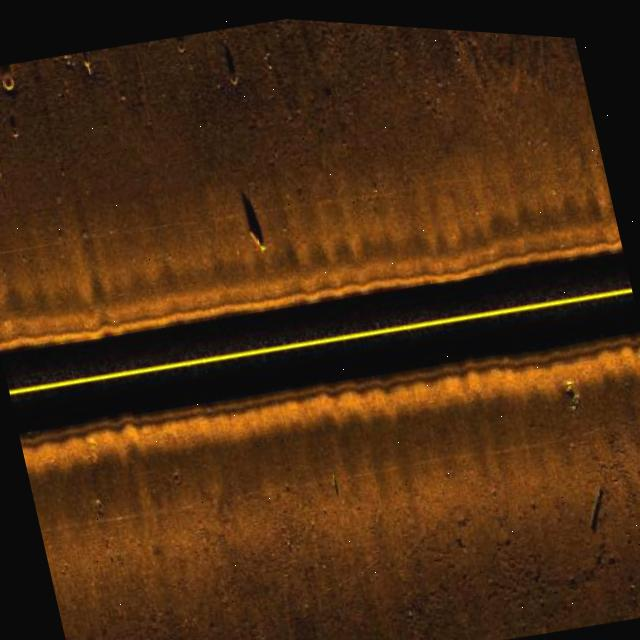mine: (229, 176, 270, 259), (322, 464, 342, 495)
other: (576, 468, 616, 531), (0, 63, 24, 96)
